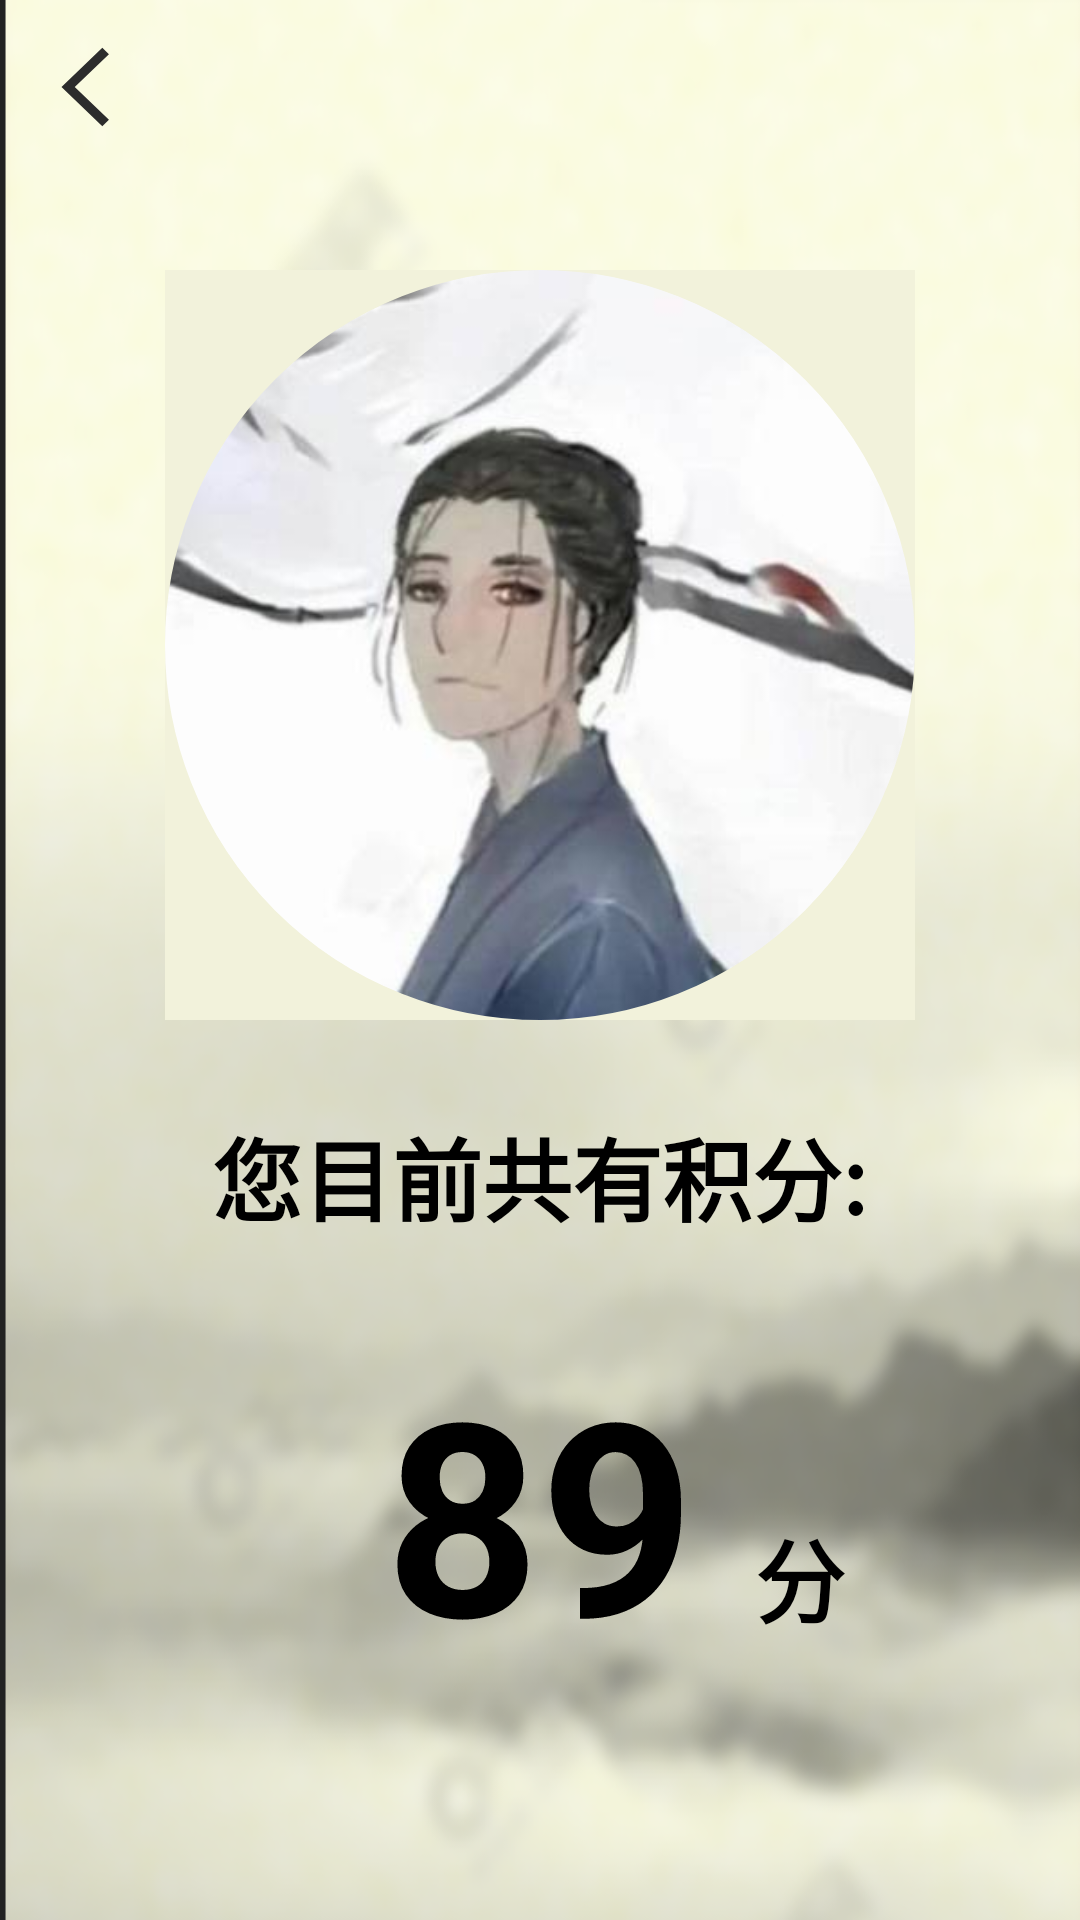

Point at icon controls on the screen. Image size 1080px×1920px, points as (x,y).
back: (85,87)
